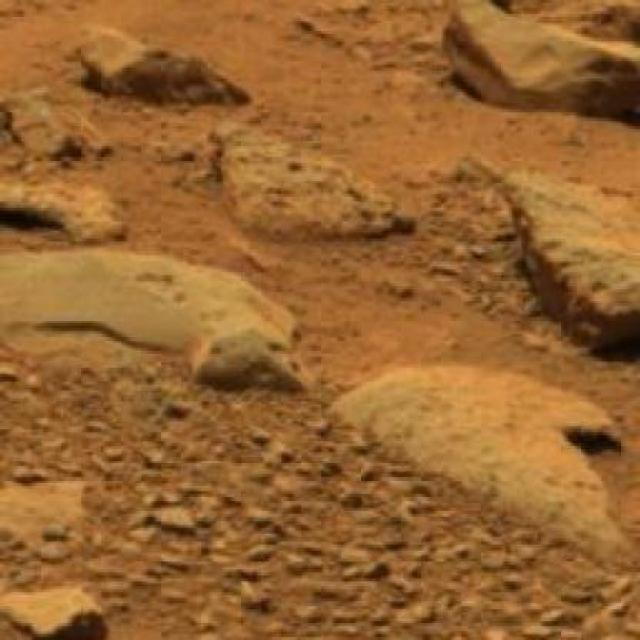rock: (330, 360, 628, 552), (0, 235, 311, 408), (492, 166, 637, 348), (442, 0, 638, 125), (485, 0, 638, 48), (610, 0, 638, 77)
